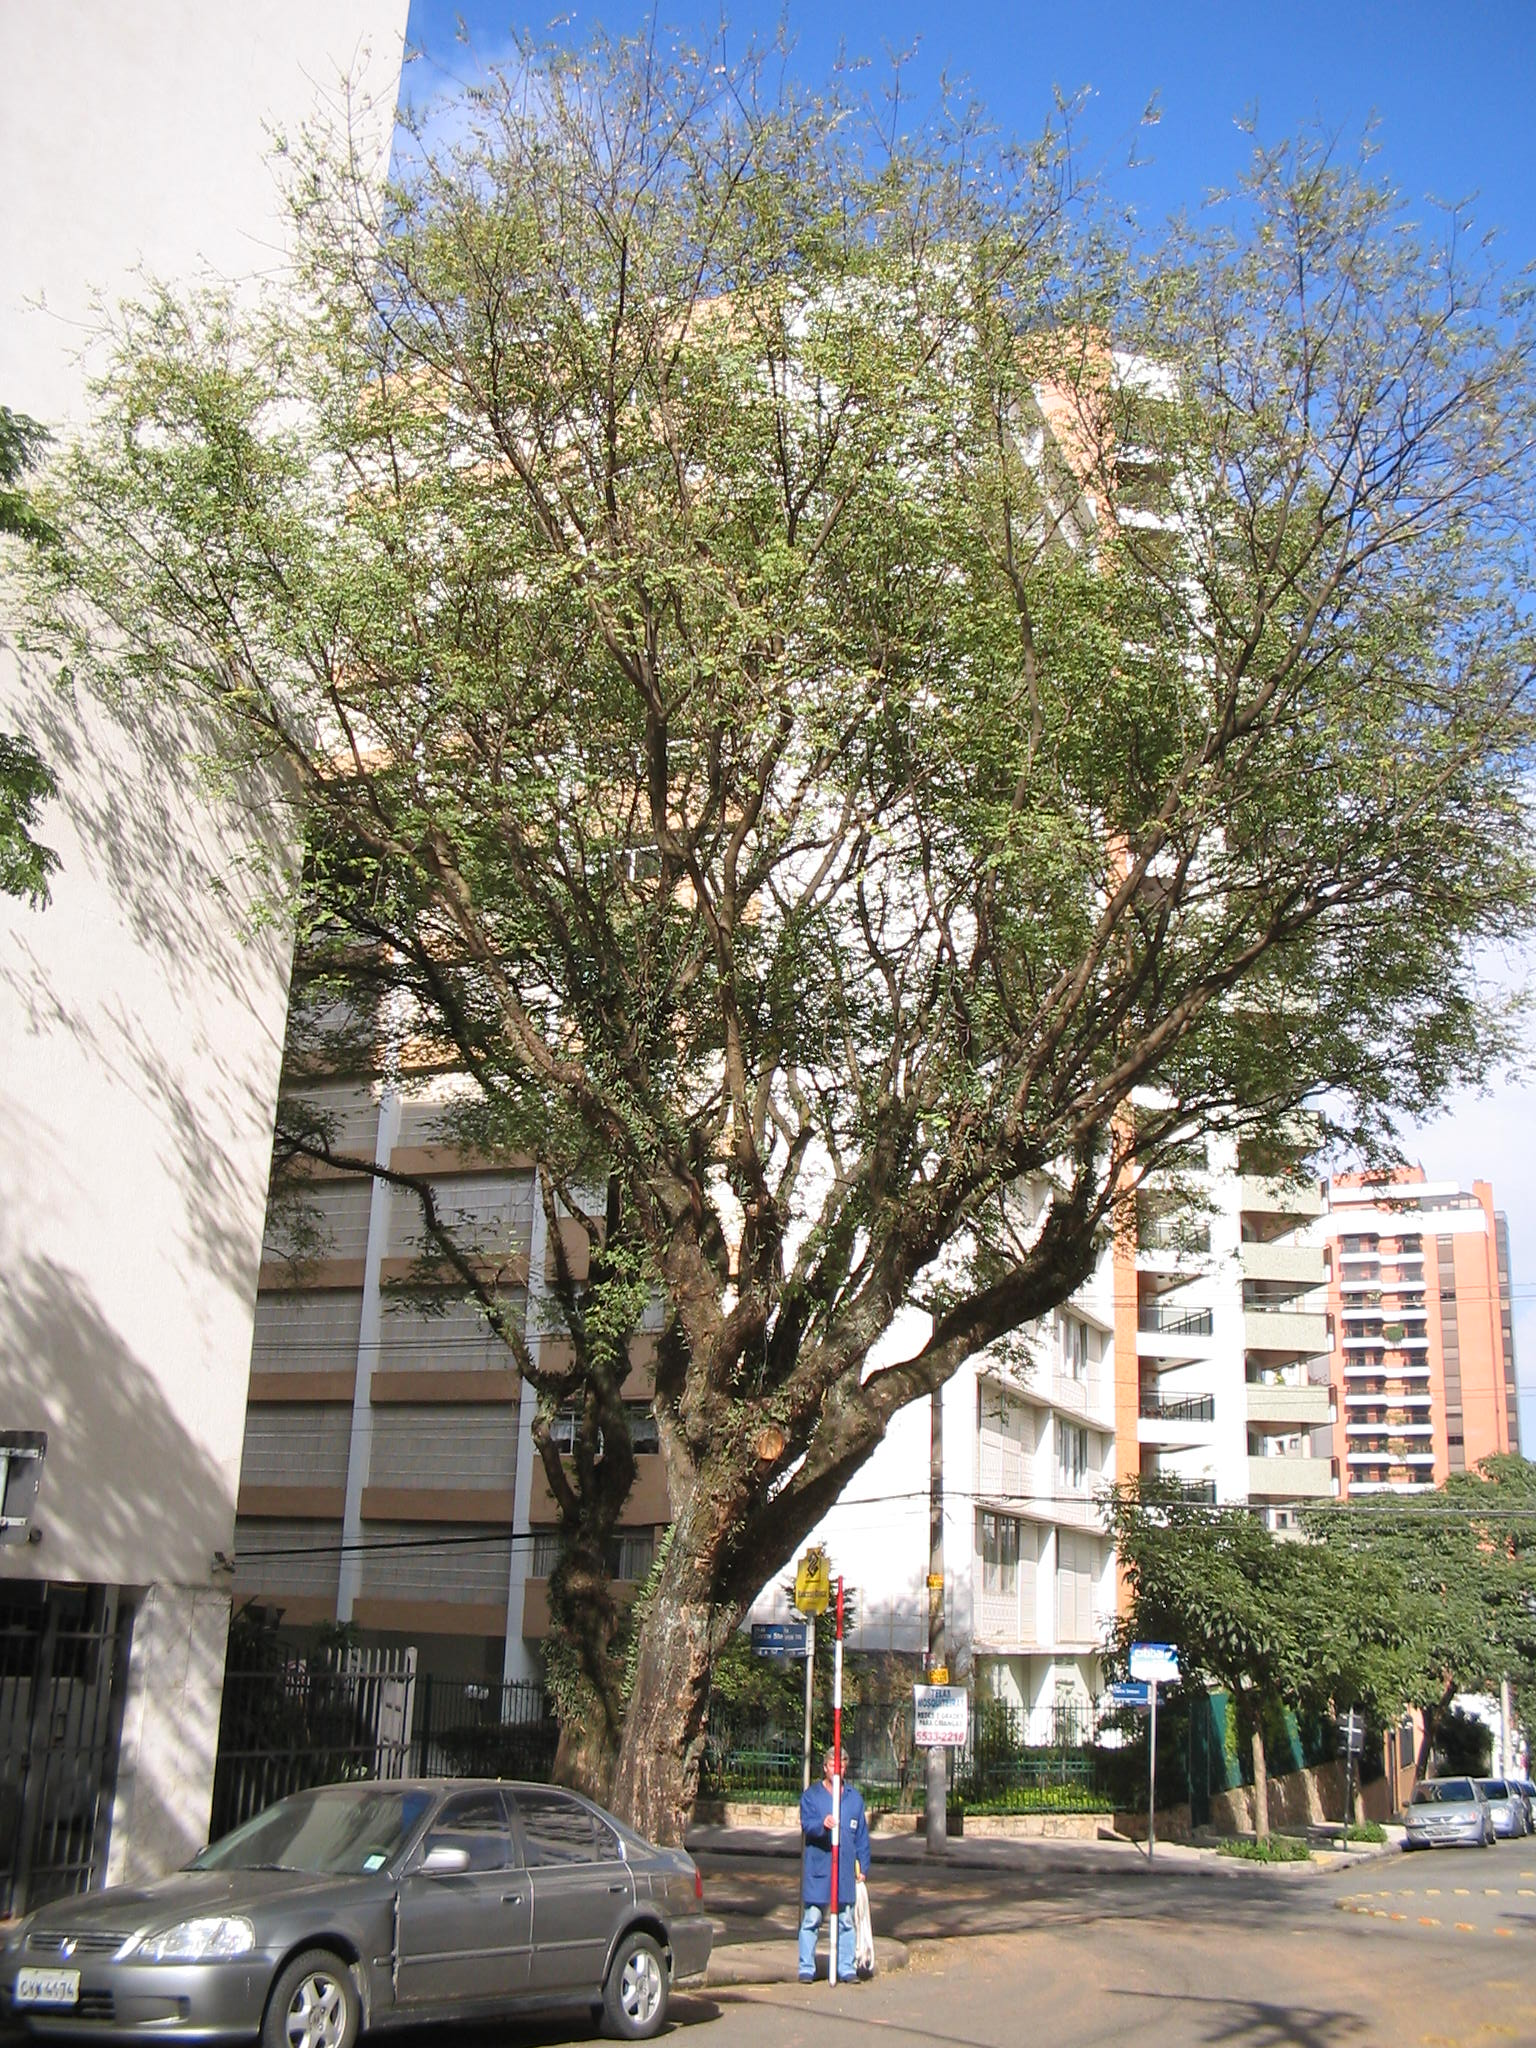crown: (23, 26, 1523, 1276)
stem: (607, 1546, 774, 1925)
stick: (795, 1574, 874, 1987)
tree: (10, 21, 1528, 1929)
